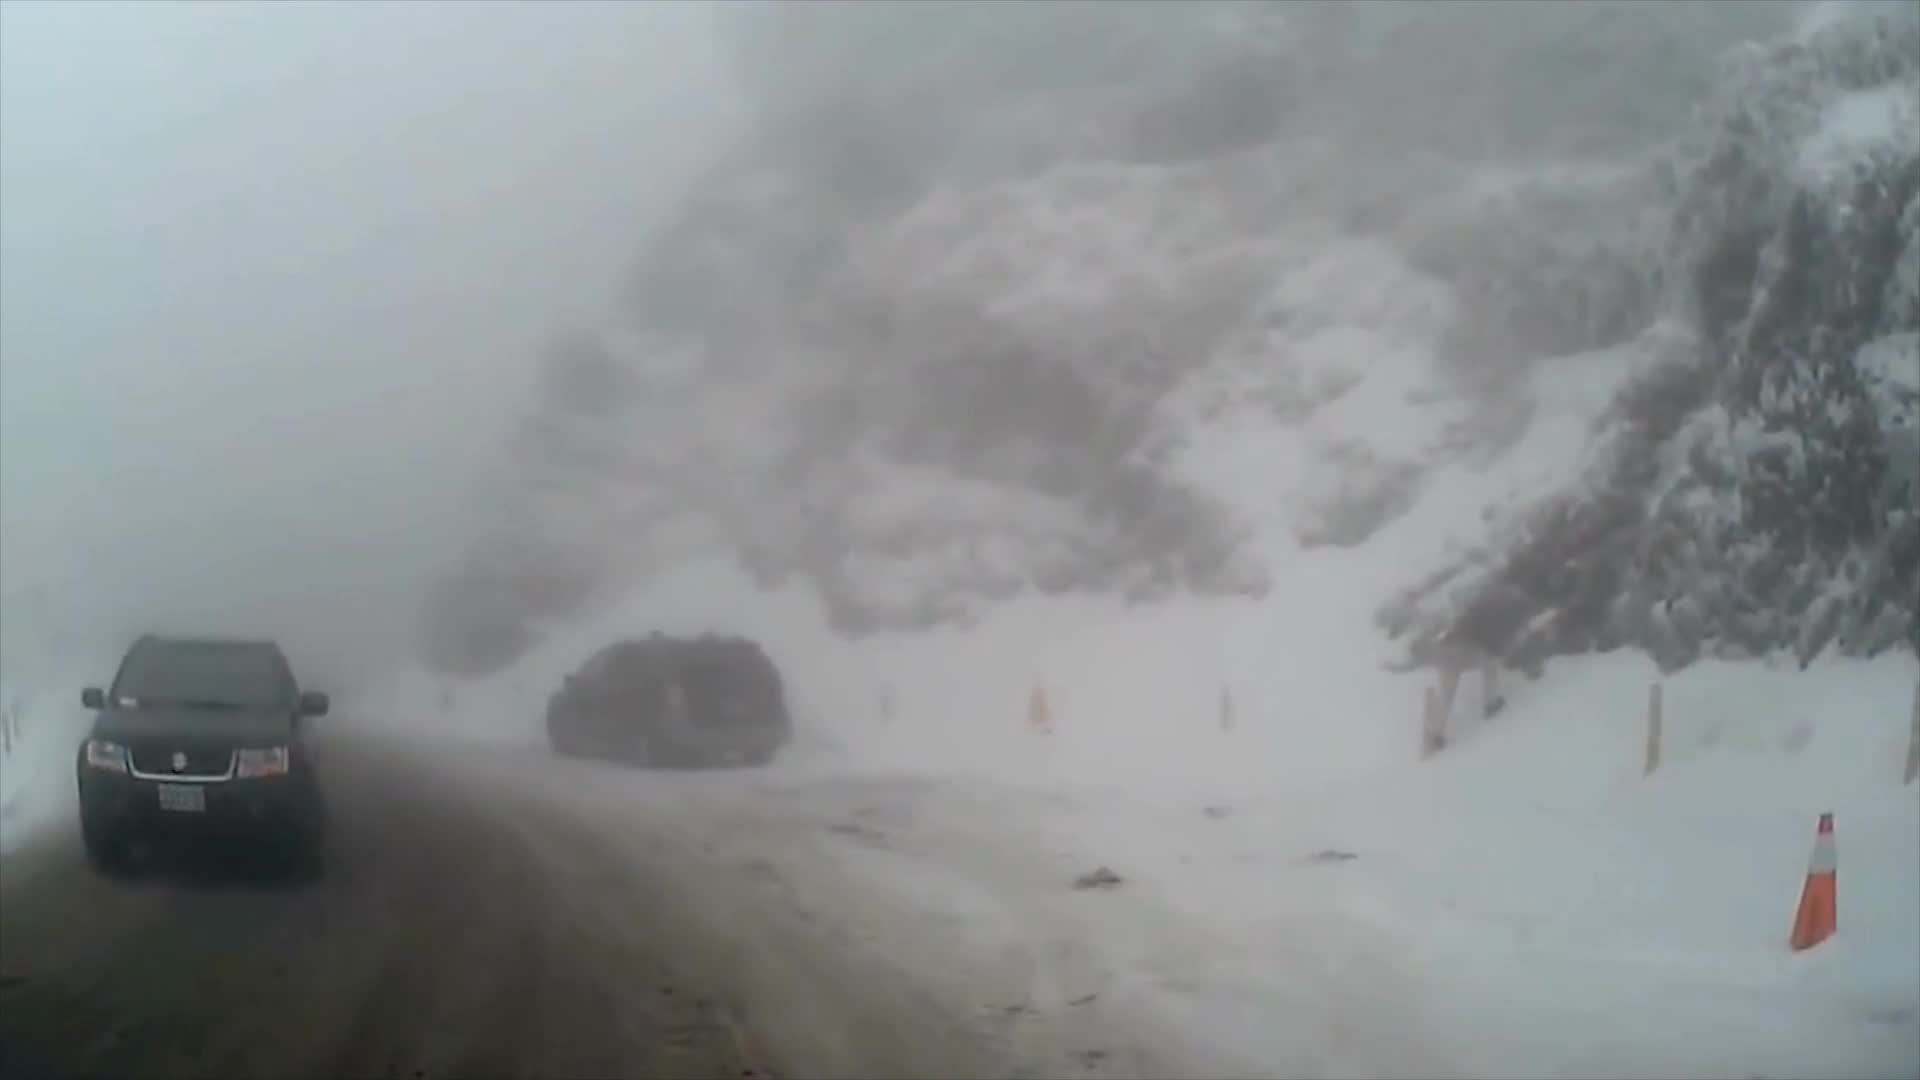vehicle: (71, 630, 332, 880), (546, 636, 790, 774)
